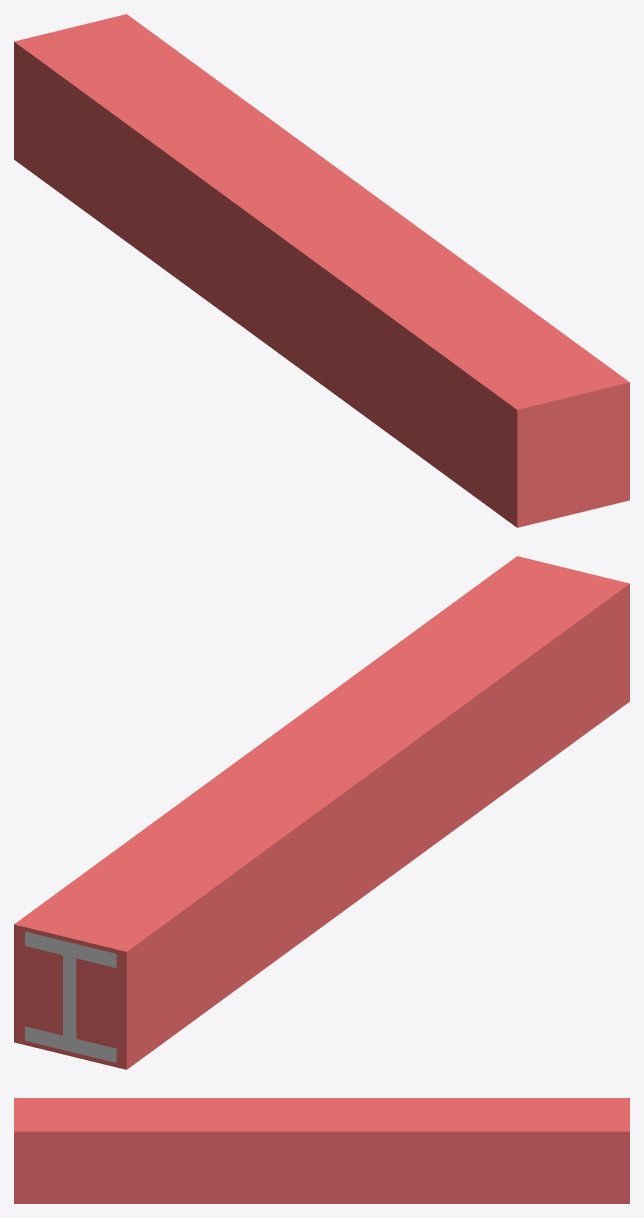
File: prop_beam.glb
The picture shows the model from 3 angles, top to bottom: view 1: azimuth 30°, elevation 25°; view 2: azimuth 150°, elevation 25°; view 3: azimuth 270°, elevation 25°; orthographic projection. The views are drawn at different scales.
Parts seen in each view (by area): view 1: brush_box.006; view 2: brush_box.006, prop_beam; view 3: brush_box.006.
Part boxes in pixels (box(x1,y1,x2,y2)): brush_box.006: box(14, 14, 629, 527); brush_box.006: box(14, 556, 629, 1069); prop_beam: box(25, 931, 116, 1062); brush_box.006: box(14, 1098, 629, 1203).
Size of the model in its own units: 0.2587 by 0.2587 by 2.
